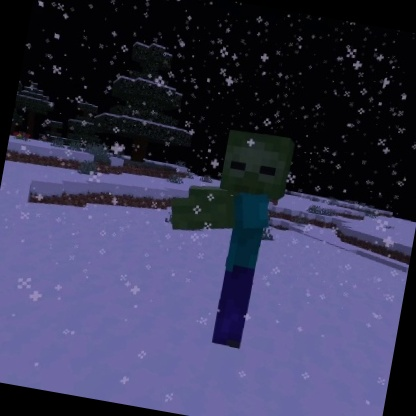zombie: (142, 113, 303, 359)
